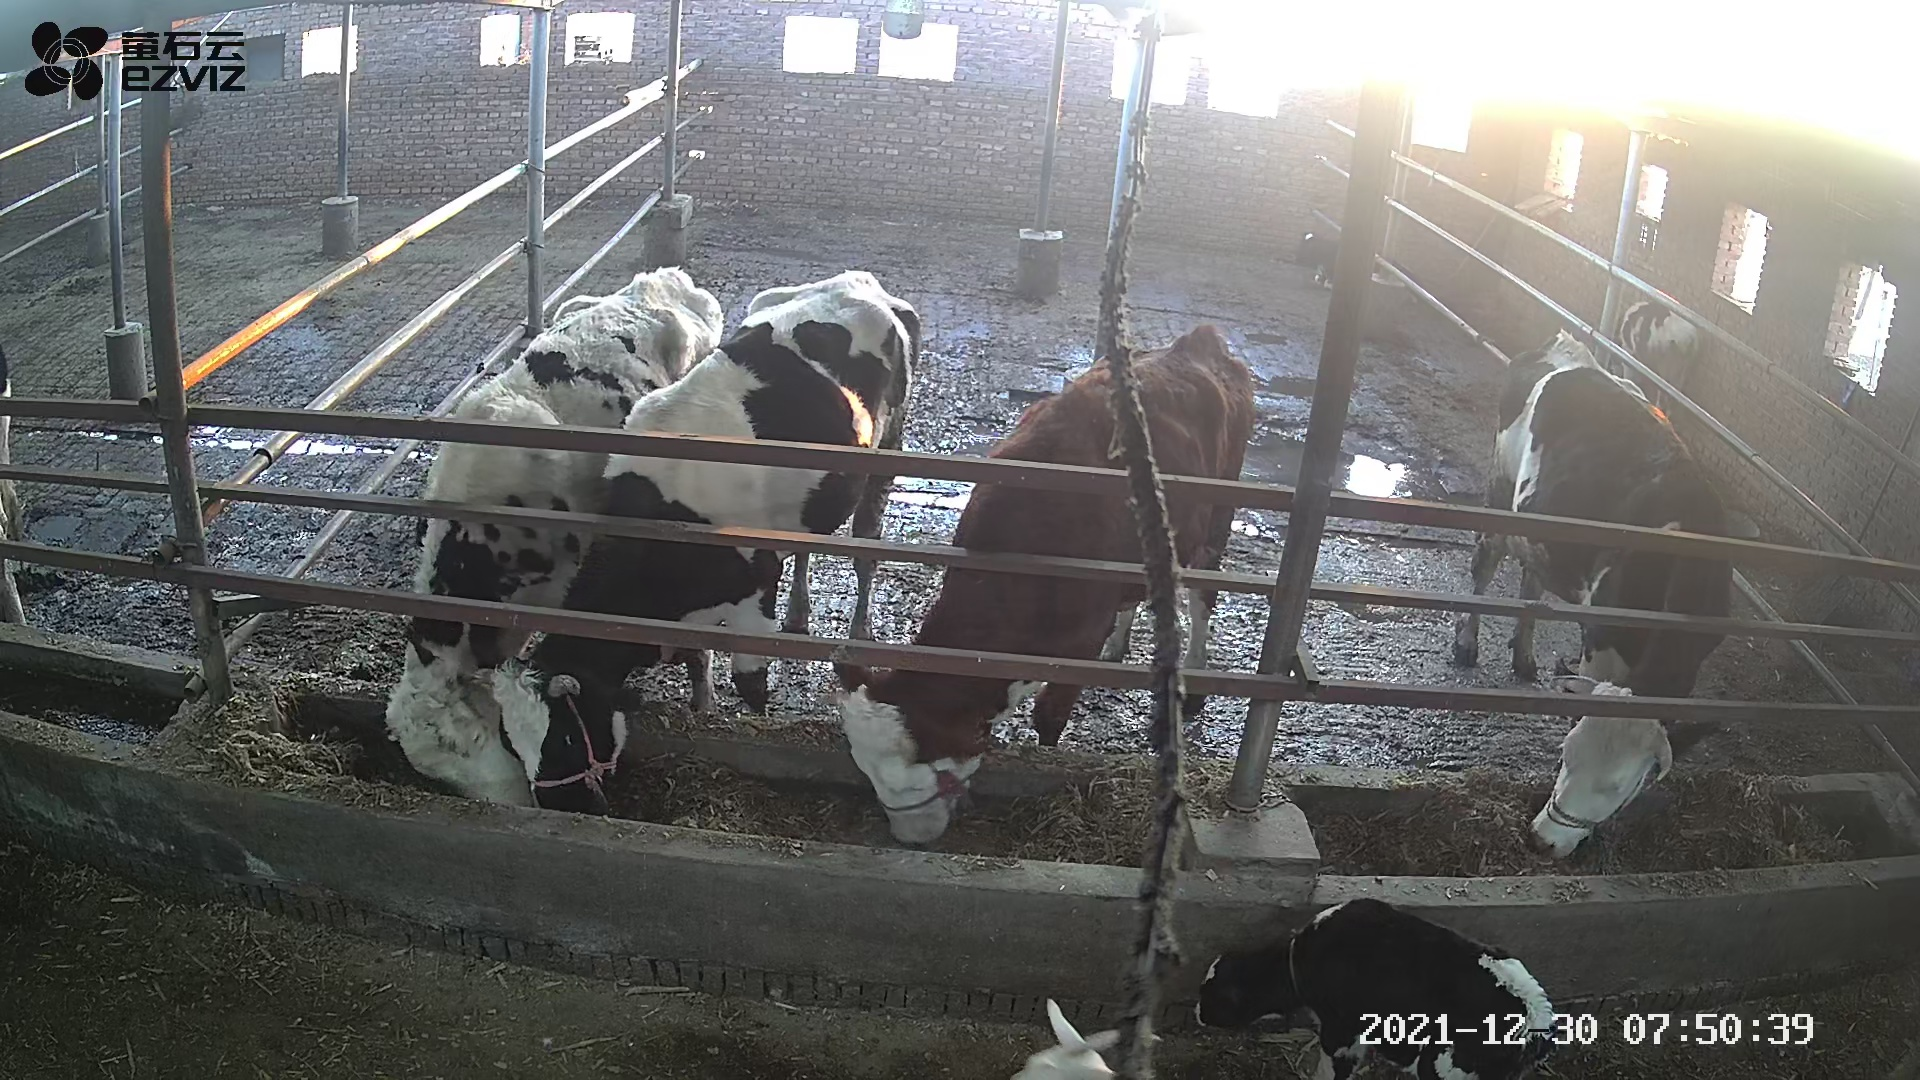cow: (459, 268, 919, 816), (832, 320, 1251, 848), (384, 265, 723, 807), (1449, 324, 1734, 861)
